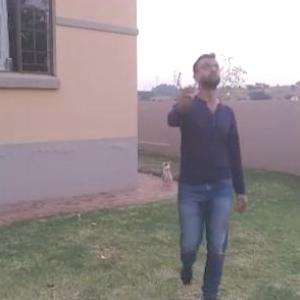takeoff-hand: (171, 78, 195, 112)
